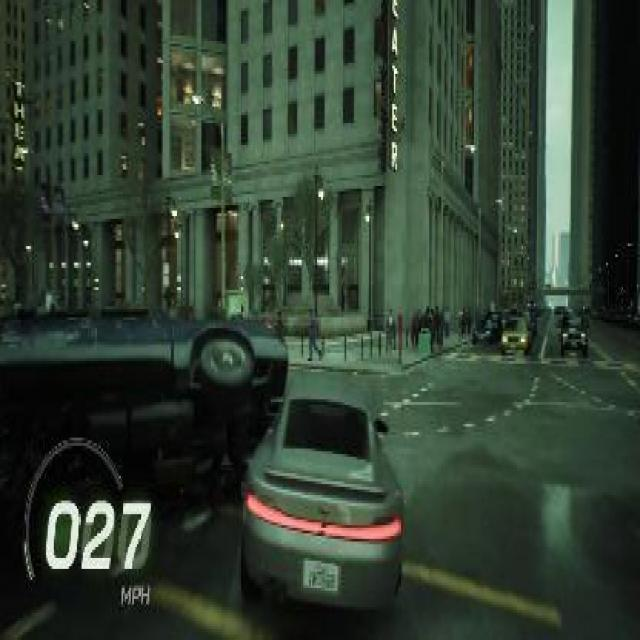accident: (0, 287, 411, 637)
